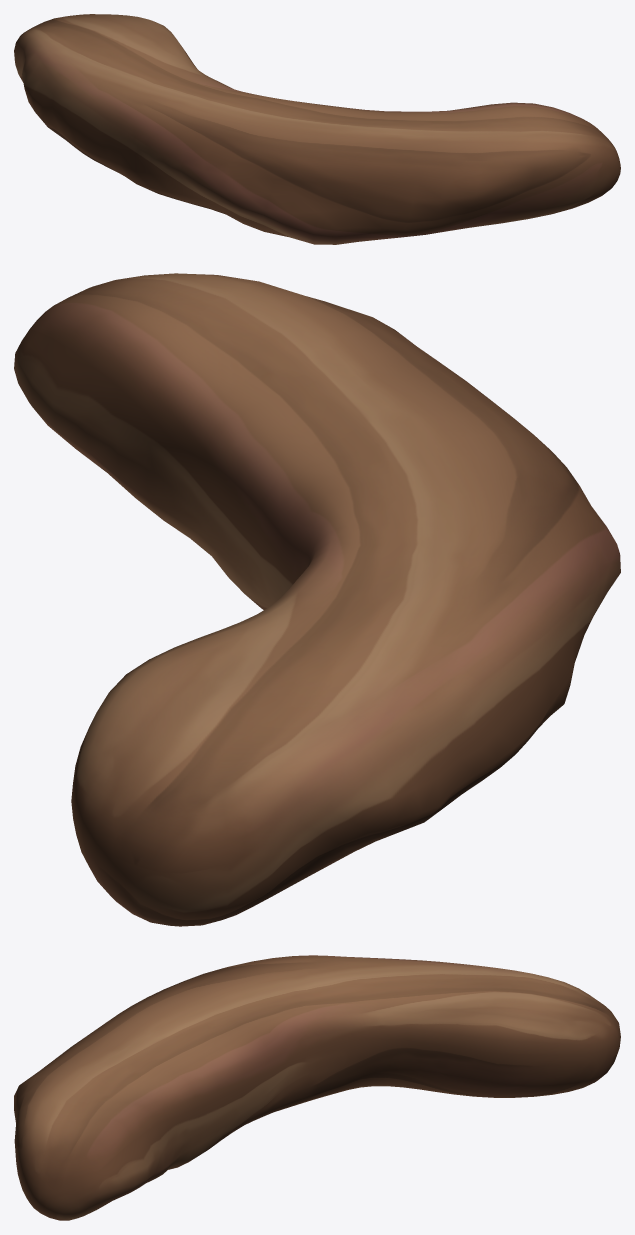
Rendered from AngelCurvedRoad.fbx.
3 renders of one model, top to bottom at view 1: azimuth 30°, elevation 25°; view 2: azimuth 150°, elevation 25°; view 3: azimuth 270°, elevation 25°, orthographic. The views are drawn at different scales.
Parts seen in each view (by area): view 1: AngelCurvedRoad; view 2: AngelCurvedRoad; view 3: AngelCurvedRoad.
Part boxes in pixels (bbox=[...]): AngelCurvedRoad: bbox=[14, 14, 620, 244]; AngelCurvedRoad: bbox=[14, 273, 620, 926]; AngelCurvedRoad: bbox=[14, 955, 620, 1220].
Bounding box in the file's own units: 311 × 80.15 × 396.
1 material, 1 textured.
